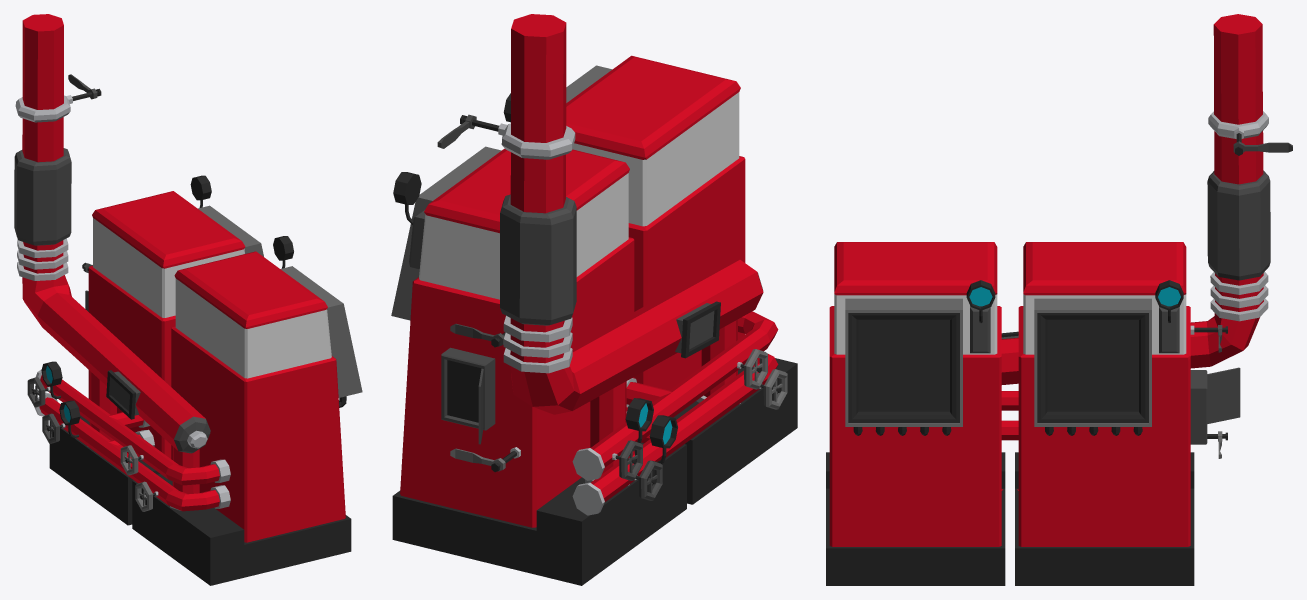
File: GasBoiler.fbx
The picture shows the model from 3 angles, left to right: view 1: azimuth 30°, elevation 25°; view 2: azimuth 150°, elevation 25°; view 3: azimuth 270°, elevation 25°; orthographic projection. The views are drawn at different scales.
Visible parts, largest first — view 1: GasBoiler; view 2: GasBoiler; view 3: GasBoiler.
Boxes of the visible parts, x1=… form: GasBoiler: x1=14, y1=14, x2=362, y2=585; GasBoiler: x1=391, y1=14, x2=797, y2=585; GasBoiler: x1=826, y1=14, x2=1292, y2=585.
Bounding box in the file's own units: 110 × 239 × 206.
